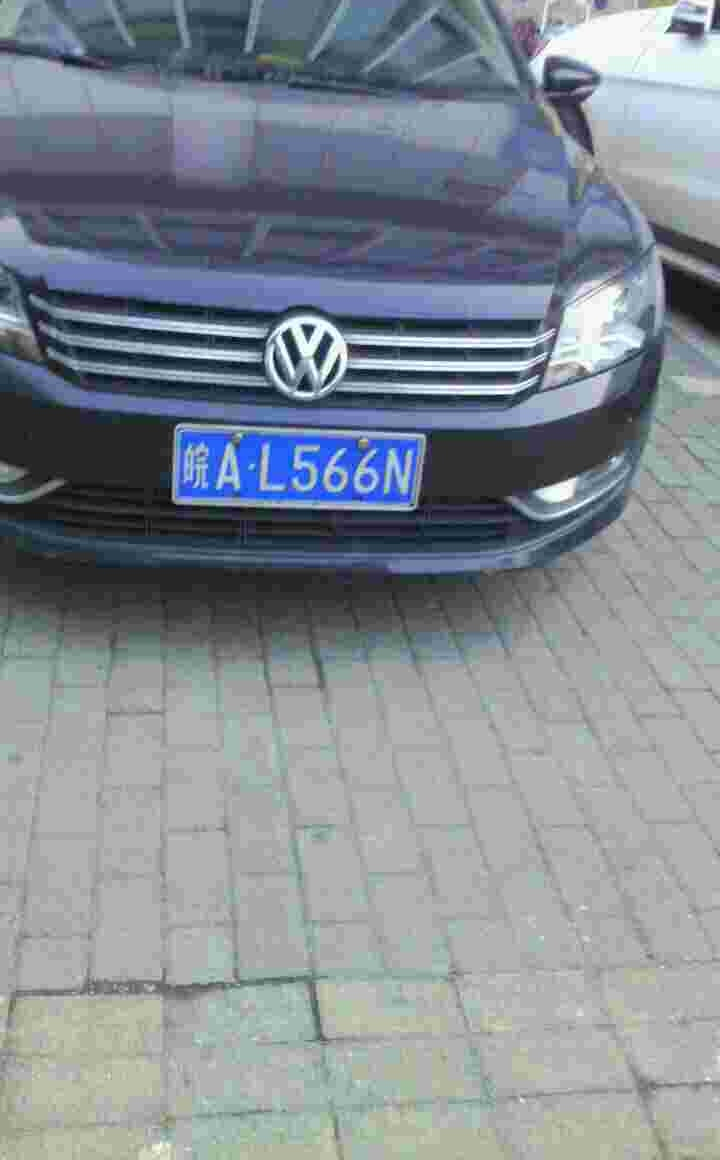license_plate: (175, 438, 409, 507)
